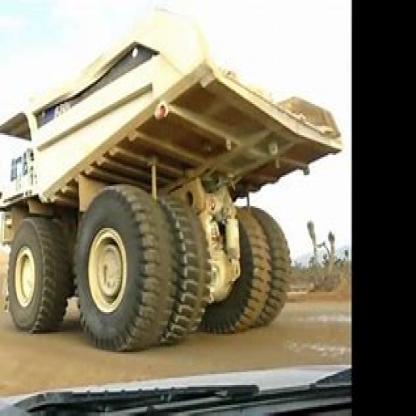dump_truck: (5, 15, 345, 341)
